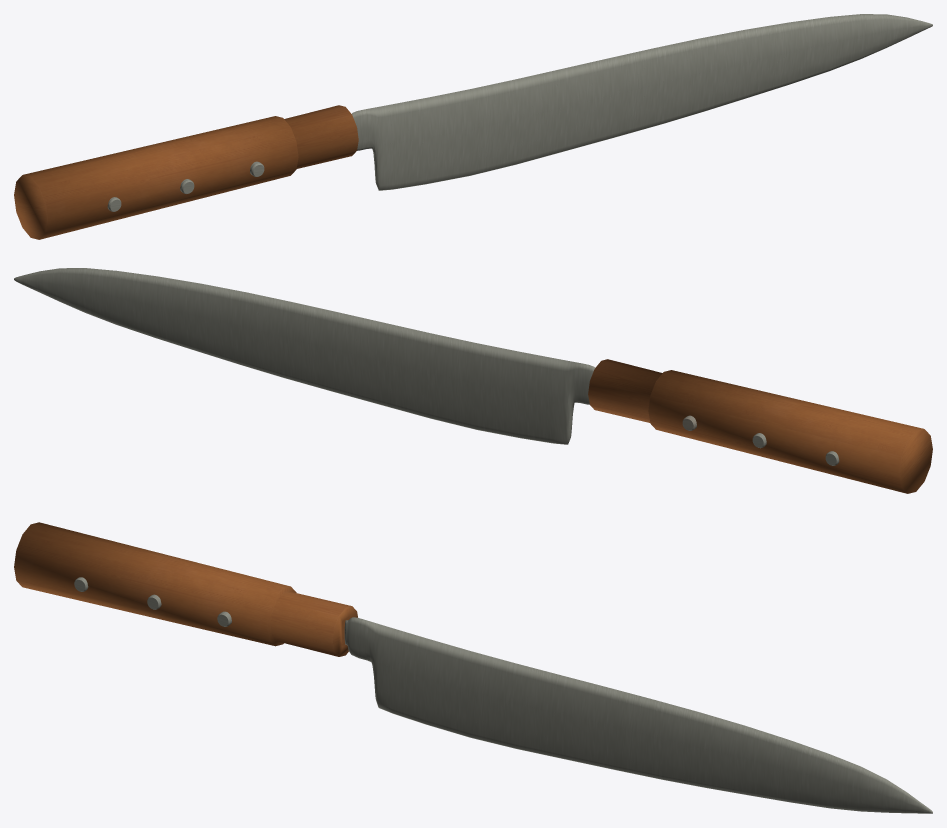
File: knife.fbx
3 views of the same model, one above another, from view 1: azimuth 30°, elevation 25°; view 2: azimuth 150°, elevation 25°; view 3: azimuth 330°, elevation 25° (orthographic).
Visible parts, largest first — view 1: Cylinder; view 2: Cylinder; view 3: Cylinder.
Part boxes in pixels (<box>): Cylinder: <box>14,14,932,239</box>; Cylinder: <box>14,268,932,493</box>; Cylinder: <box>14,522,932,813</box>.
Size of the model in its own units: 308 by 34.64 by 21.25.
